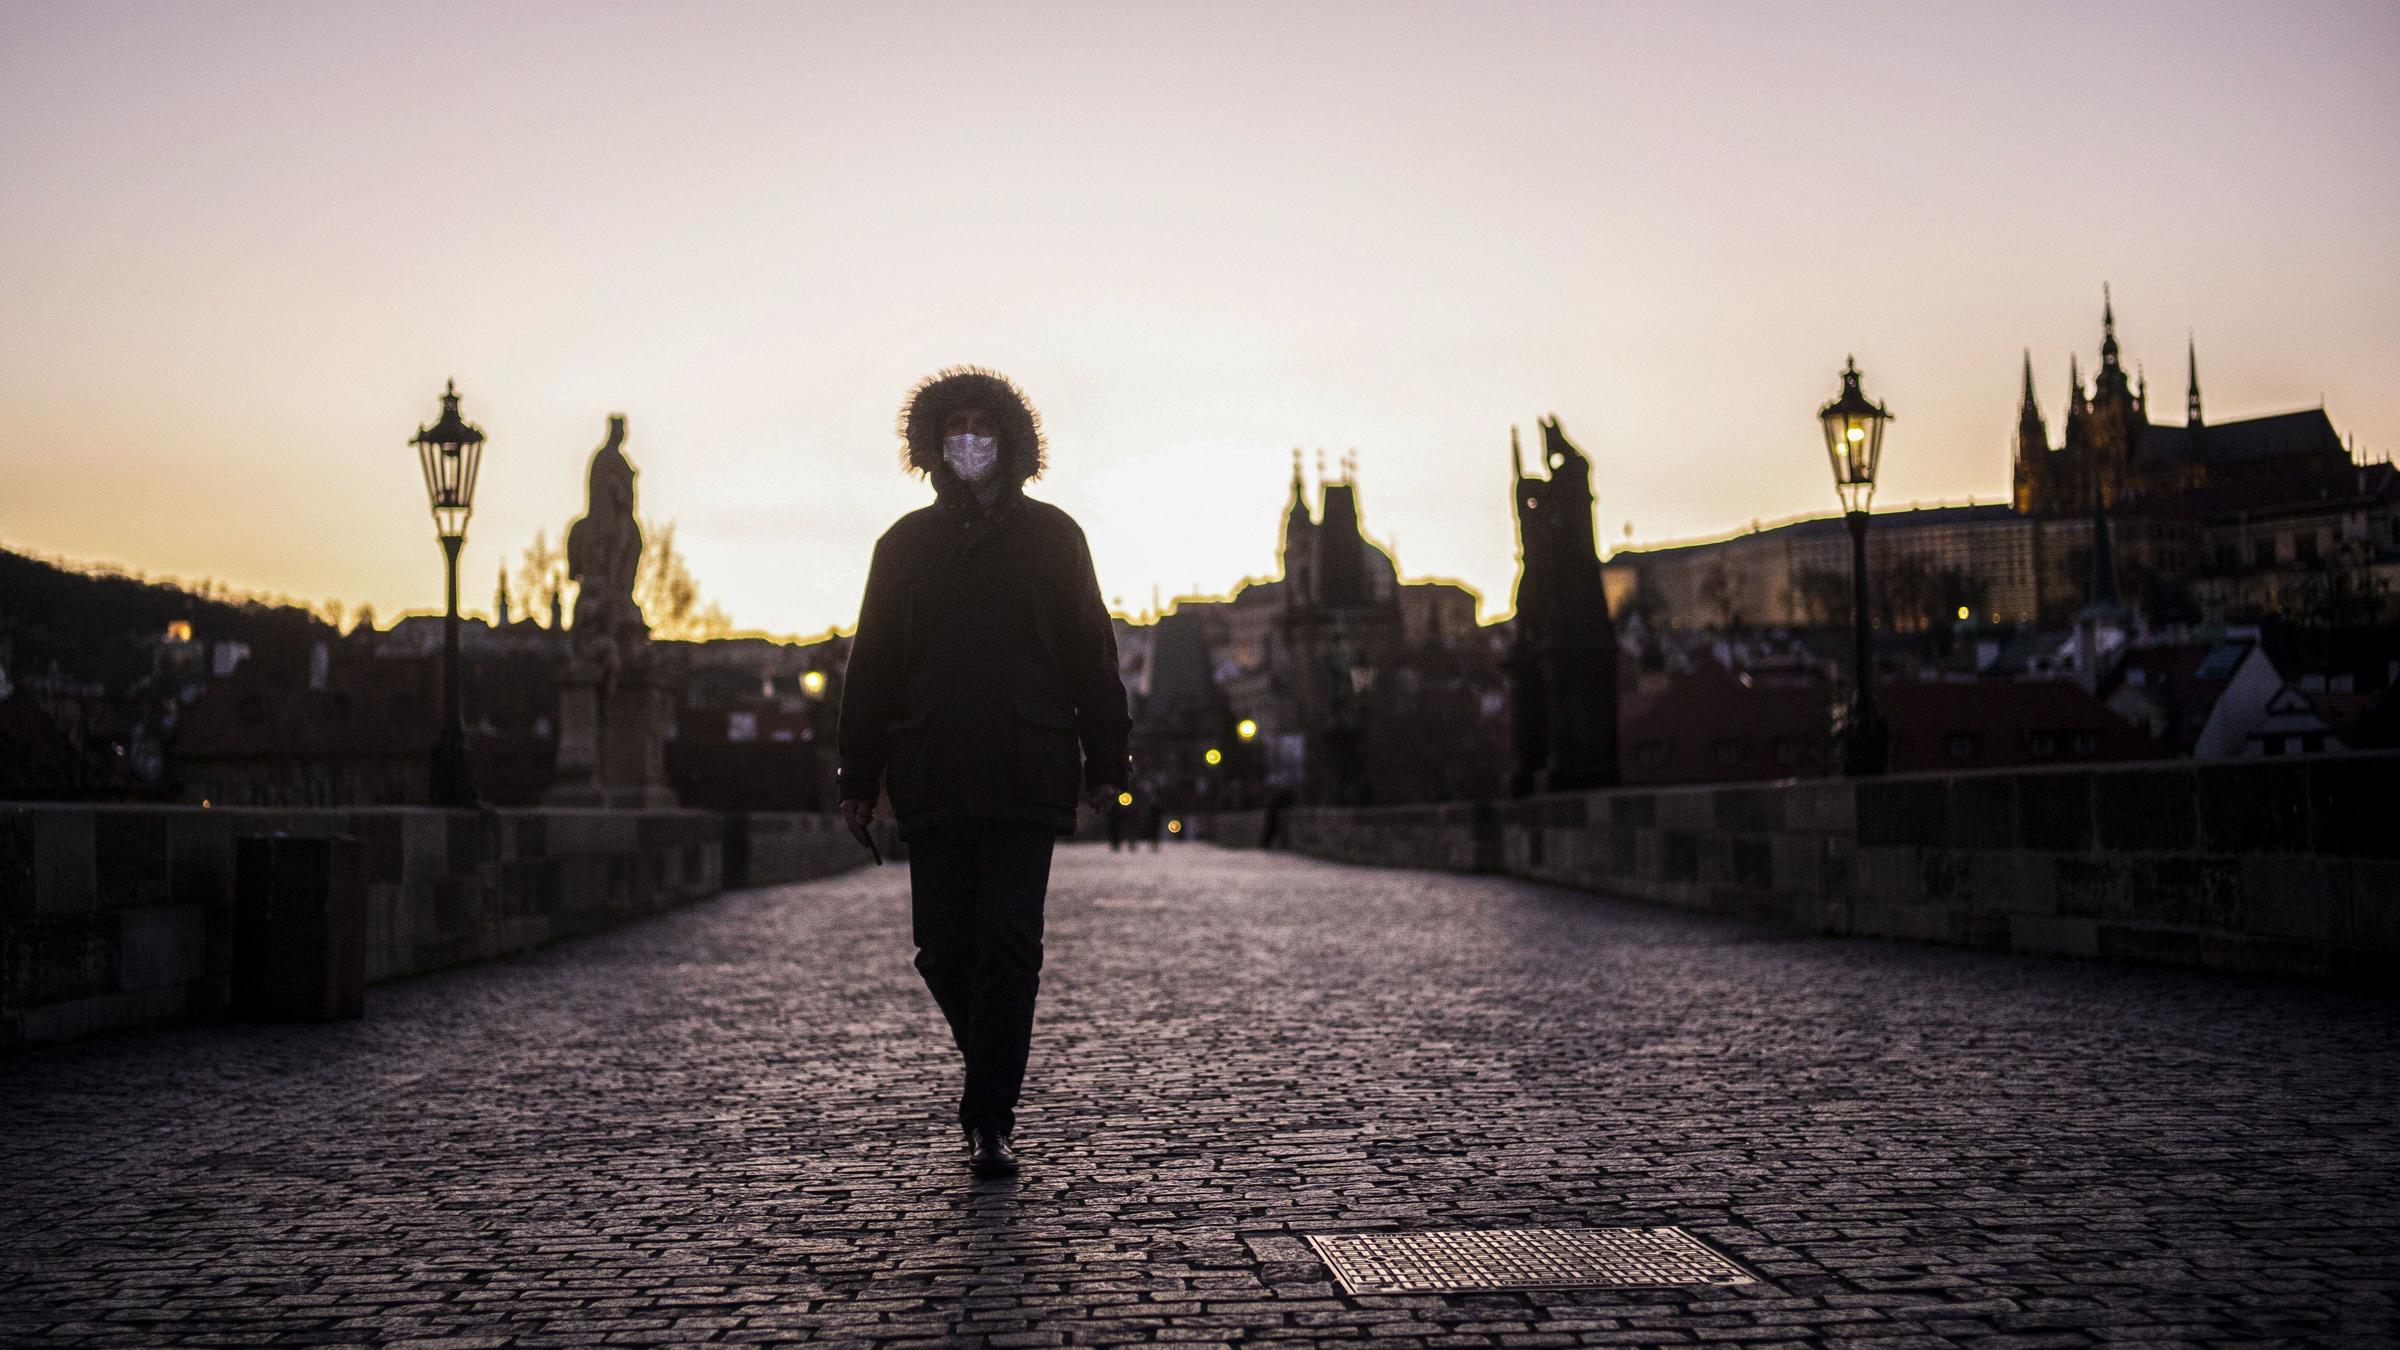with_mask: (917, 390, 1009, 479)
